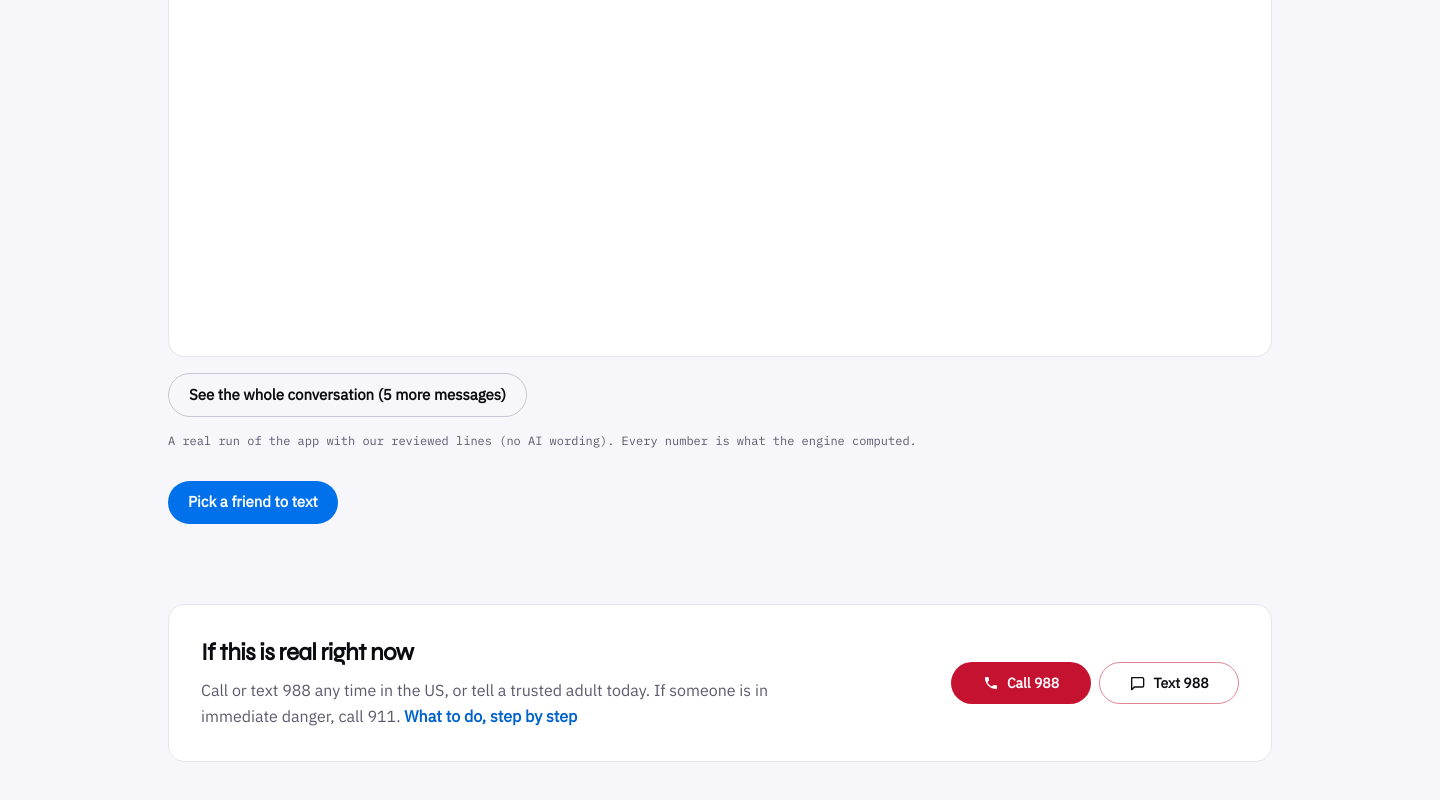
Test: Landing example conversation › renders every recorded turn with the numbers the engine computed
The width and height of the screenshot is (1440, 800).
(page scrolled)
What coordinates should you click on to do the following:
click the button with test id "example-more"
I would click on:
 (348, 395)
Its box is [168,373,527,418].
(page scrolled)
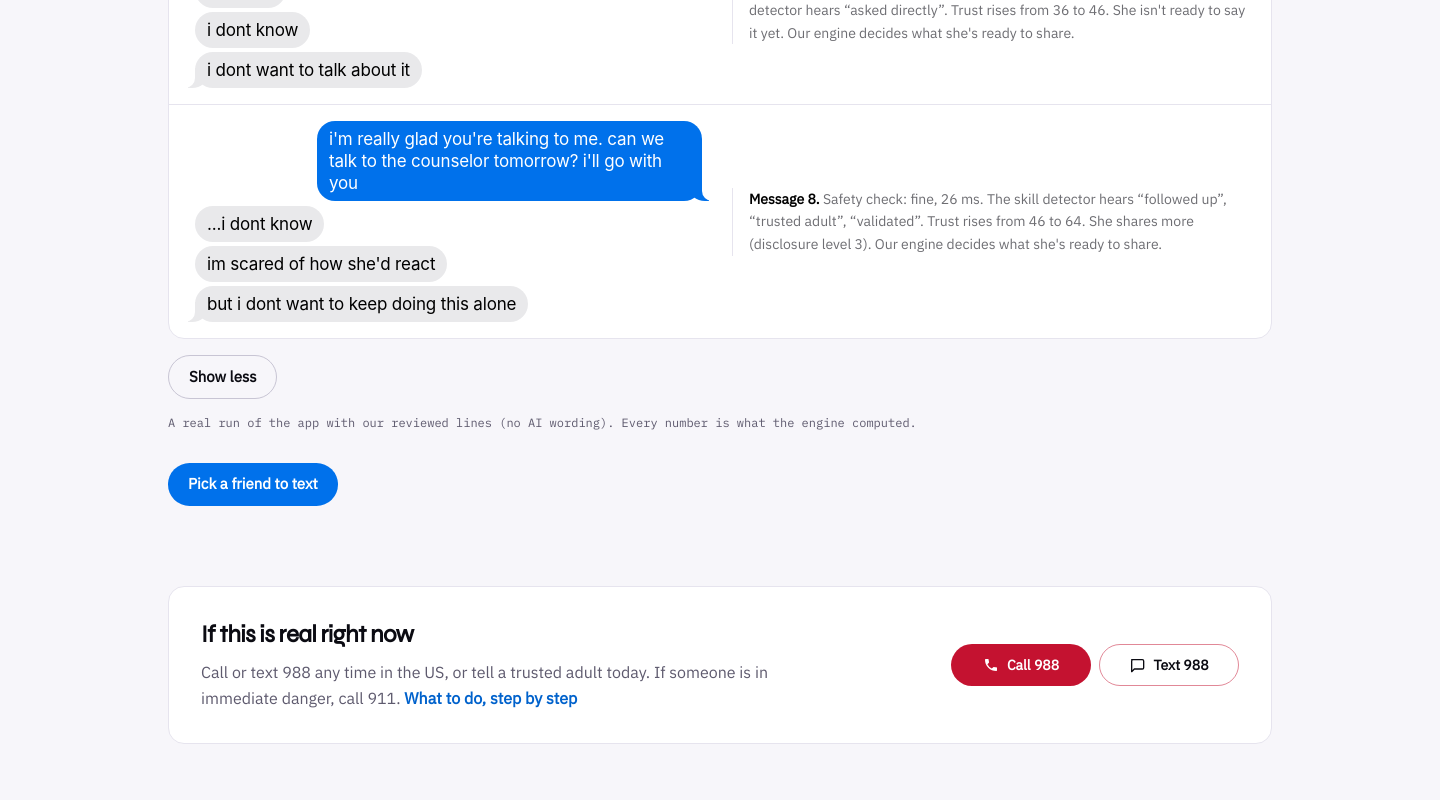
Result: the button with test id "example-more" is expanded at [168,355,278,399]
Result: the list item with test id "example-turn" shows "i dont know" at [207,20,298,40]
Result: the list item with test id "example-turn" shows "i dont want to talk about it" at [207,60,410,80]
